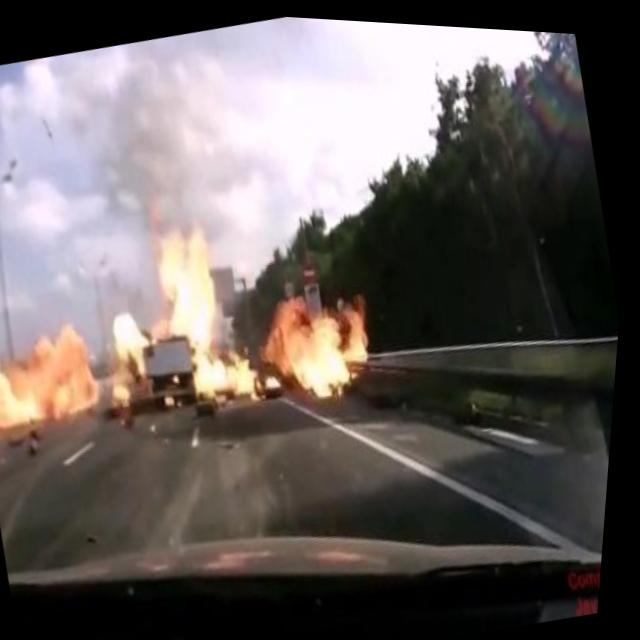fire: (82, 193, 285, 439), (249, 254, 397, 418), (0, 292, 119, 451)
